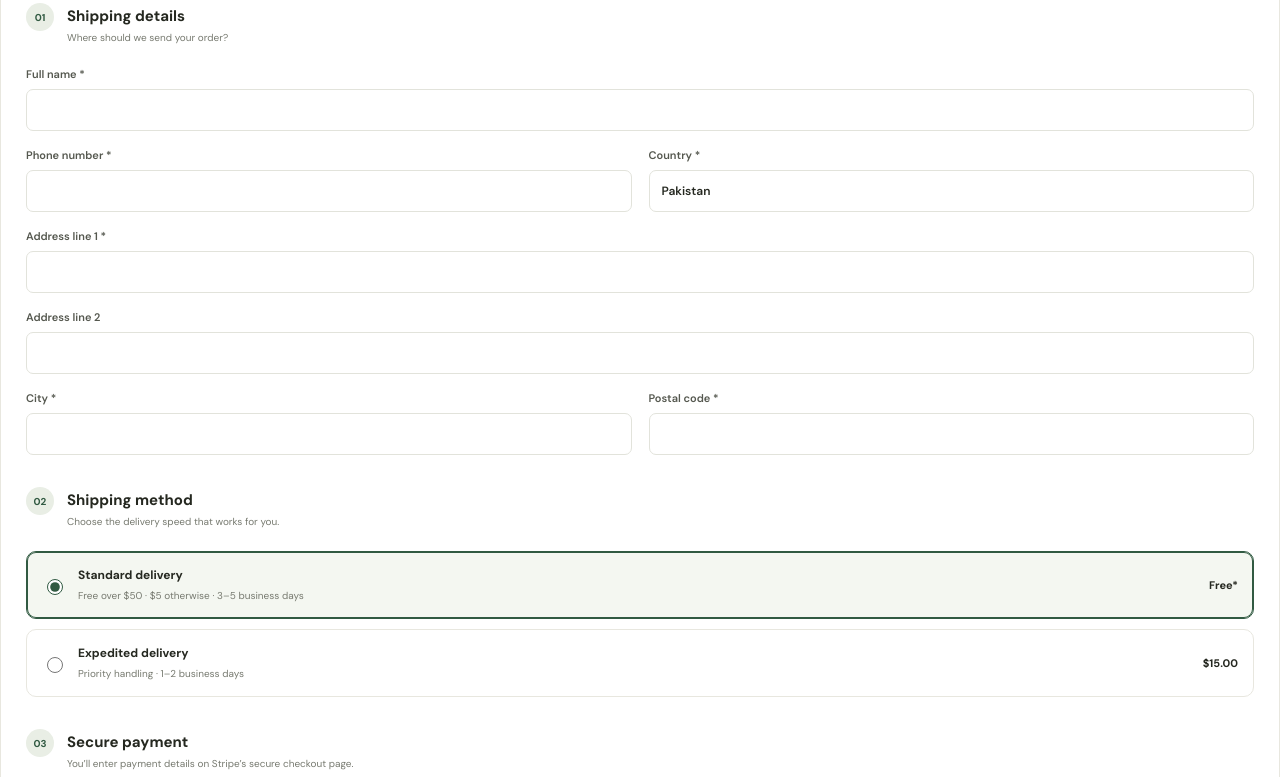
CheckoutForm › shows the fallback when the API succeeds without returning a checkout URL
Type "Taylor Customer" into the field labelled "Full name *" at (640, 110), box [26, 89, 1254, 131]
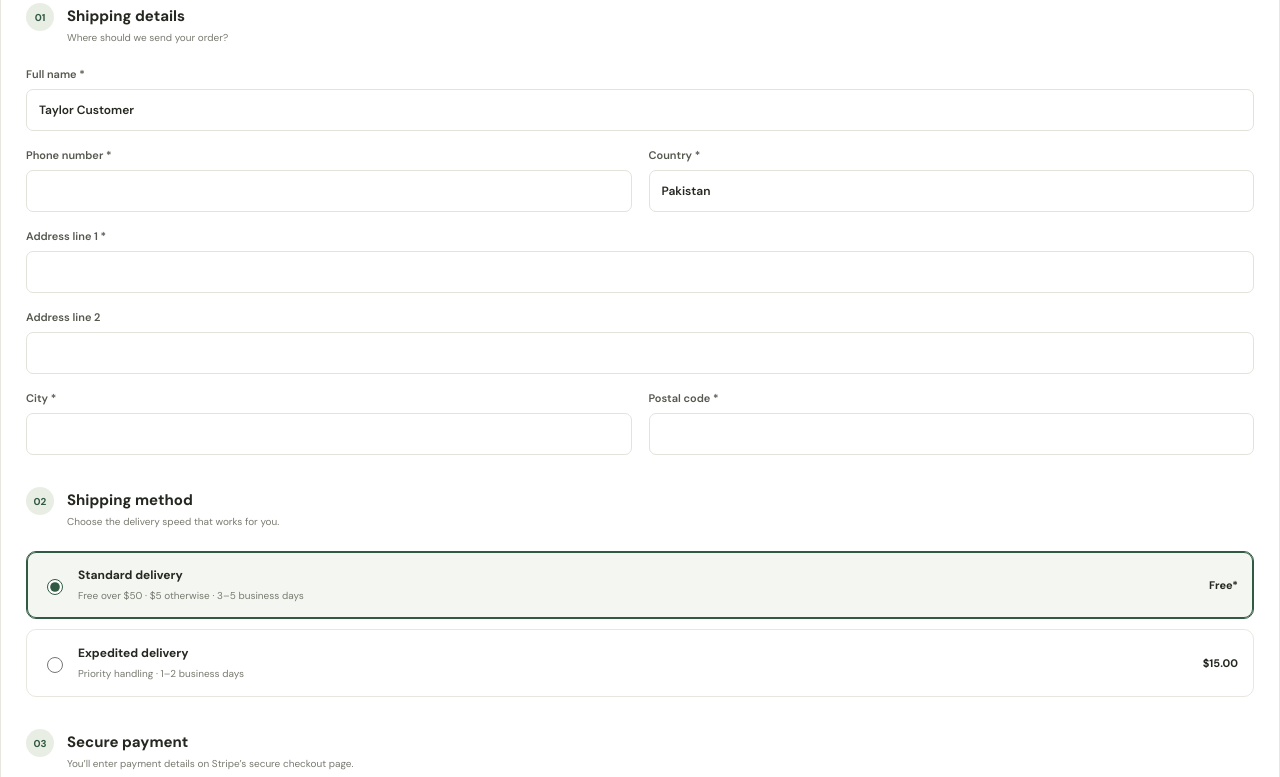
Type "5551234567" into the field labelled "Phone number *" at (329, 191), box [26, 170, 632, 212]
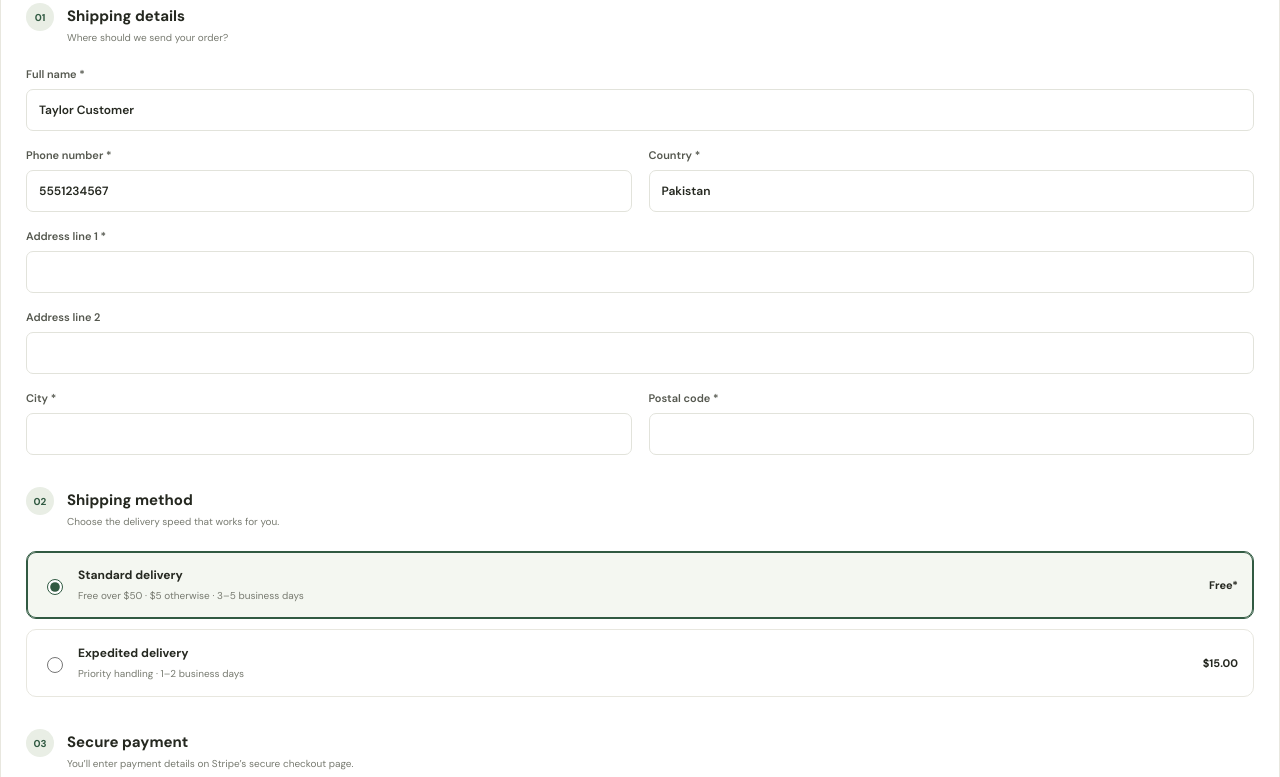
Type "12 Market Street" into the field labelled "Address line 1 *" at (640, 272), box [26, 251, 1254, 293]
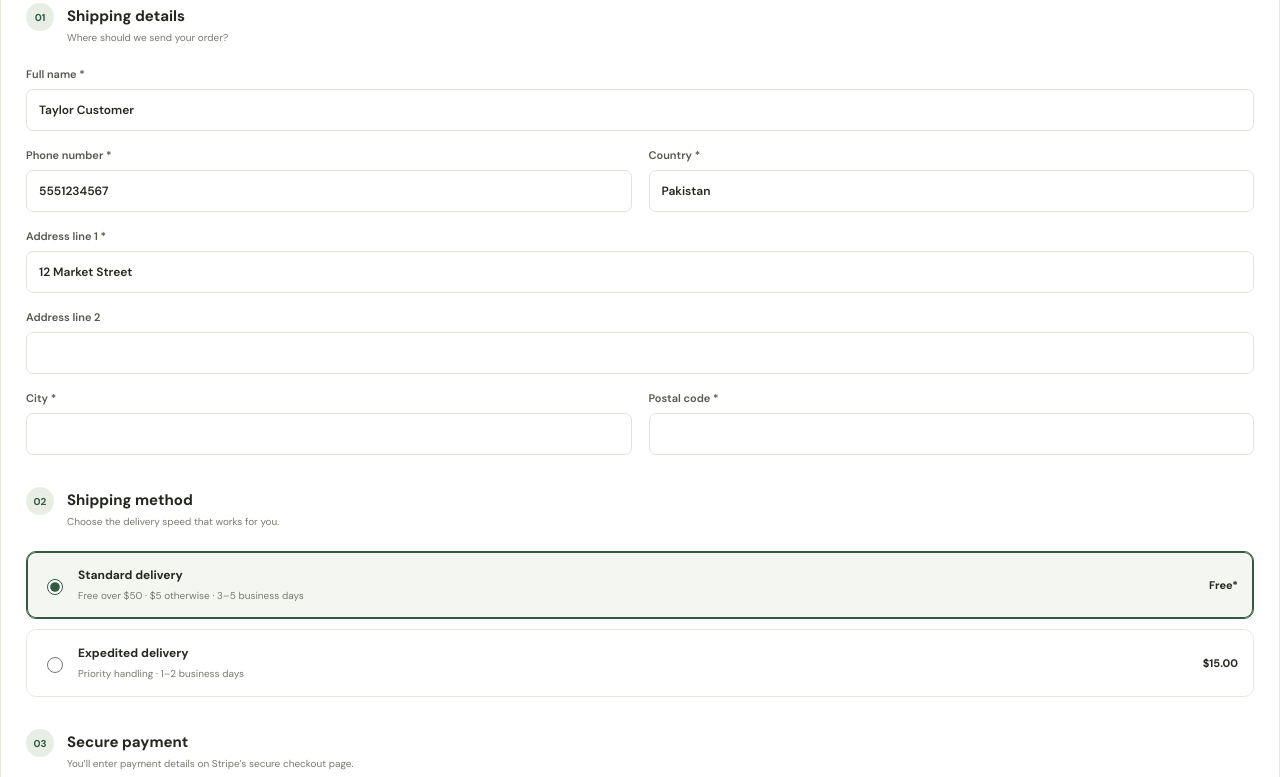
Type "Lahore" into the field labelled "City *" at (329, 434), box [26, 413, 632, 455]
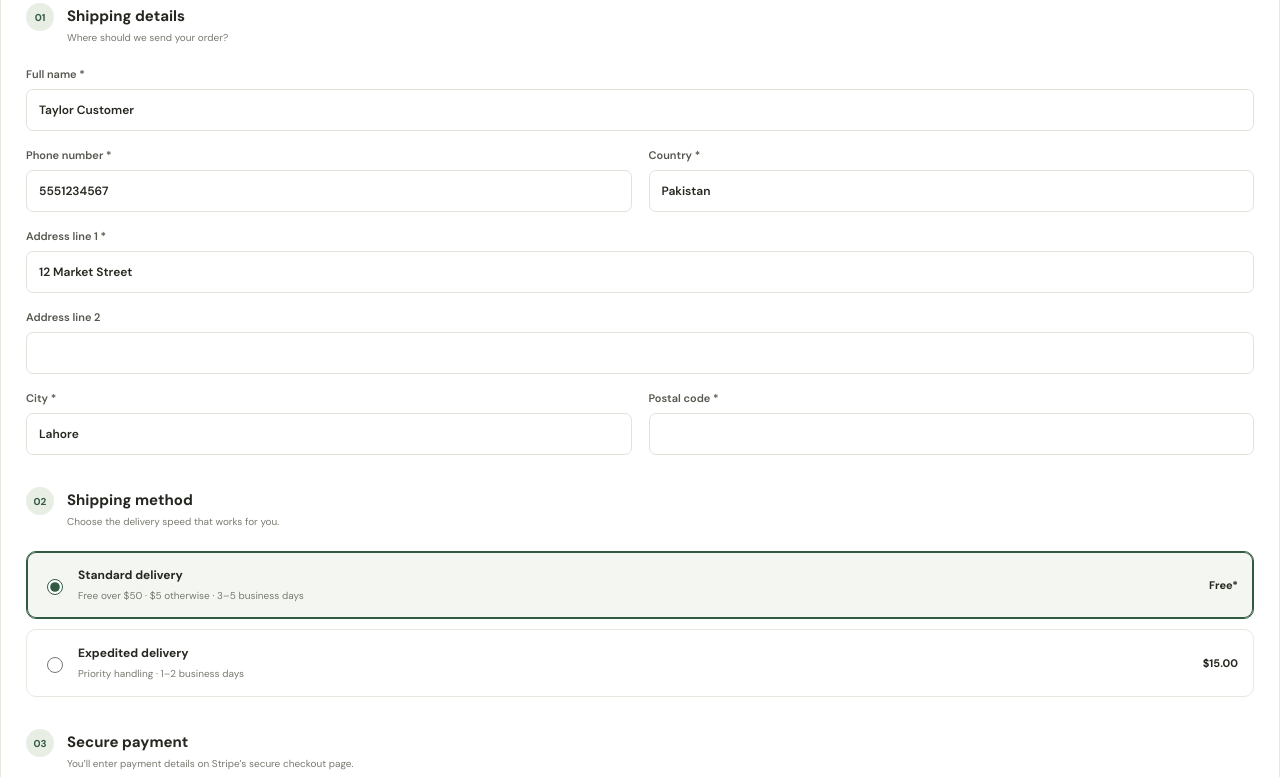
Type "54000" into the field labelled "Postal code *" at (951, 434), box [648, 413, 1254, 455]
(page scrolled)
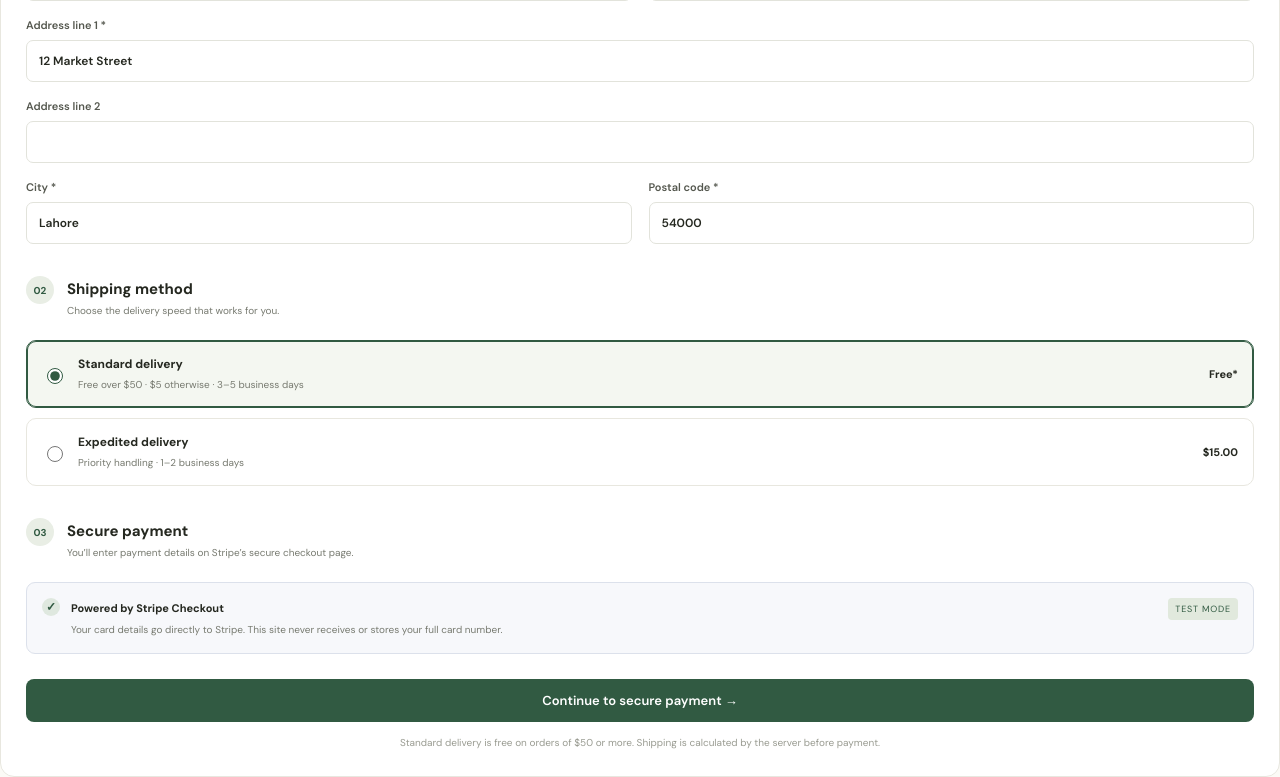
Click the button "Continue to secure payment →" at (640, 700), box [26, 679, 1254, 722]
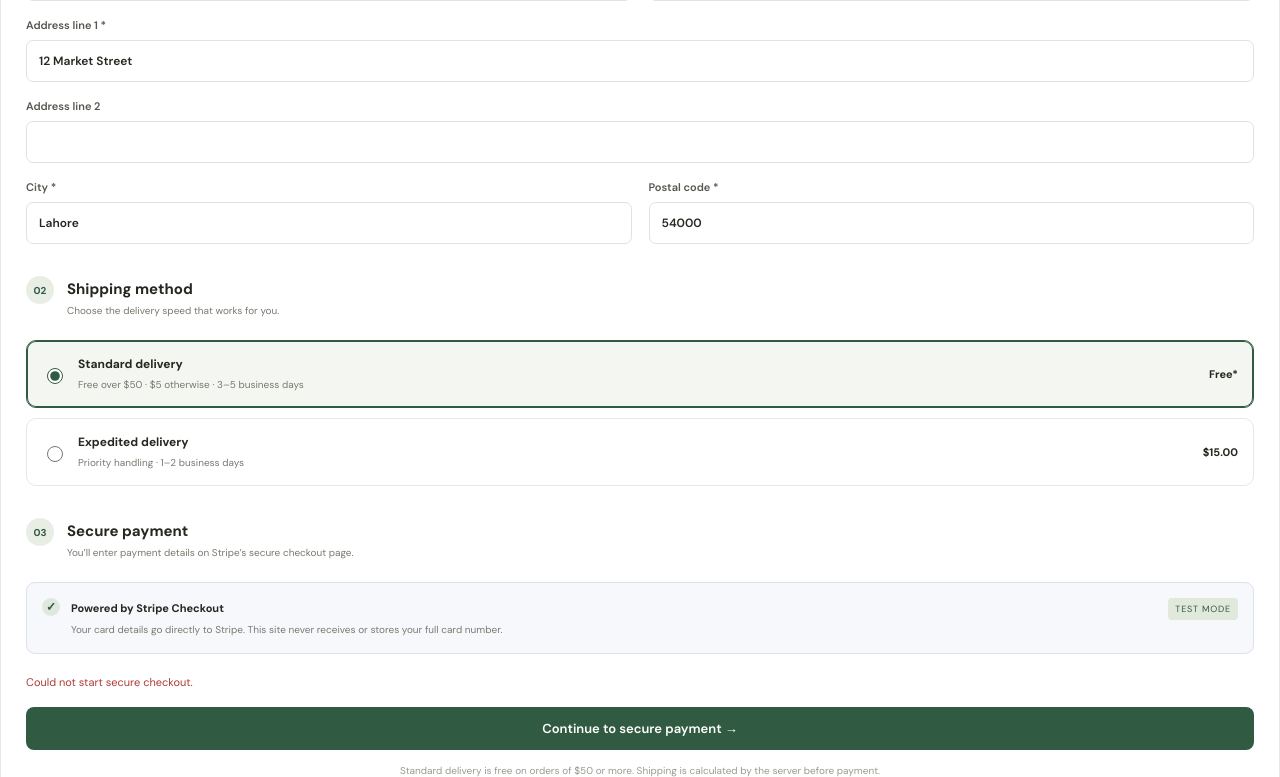
Now the message reads "Could not start secure checkout.", box [26, 675, 193, 689]
